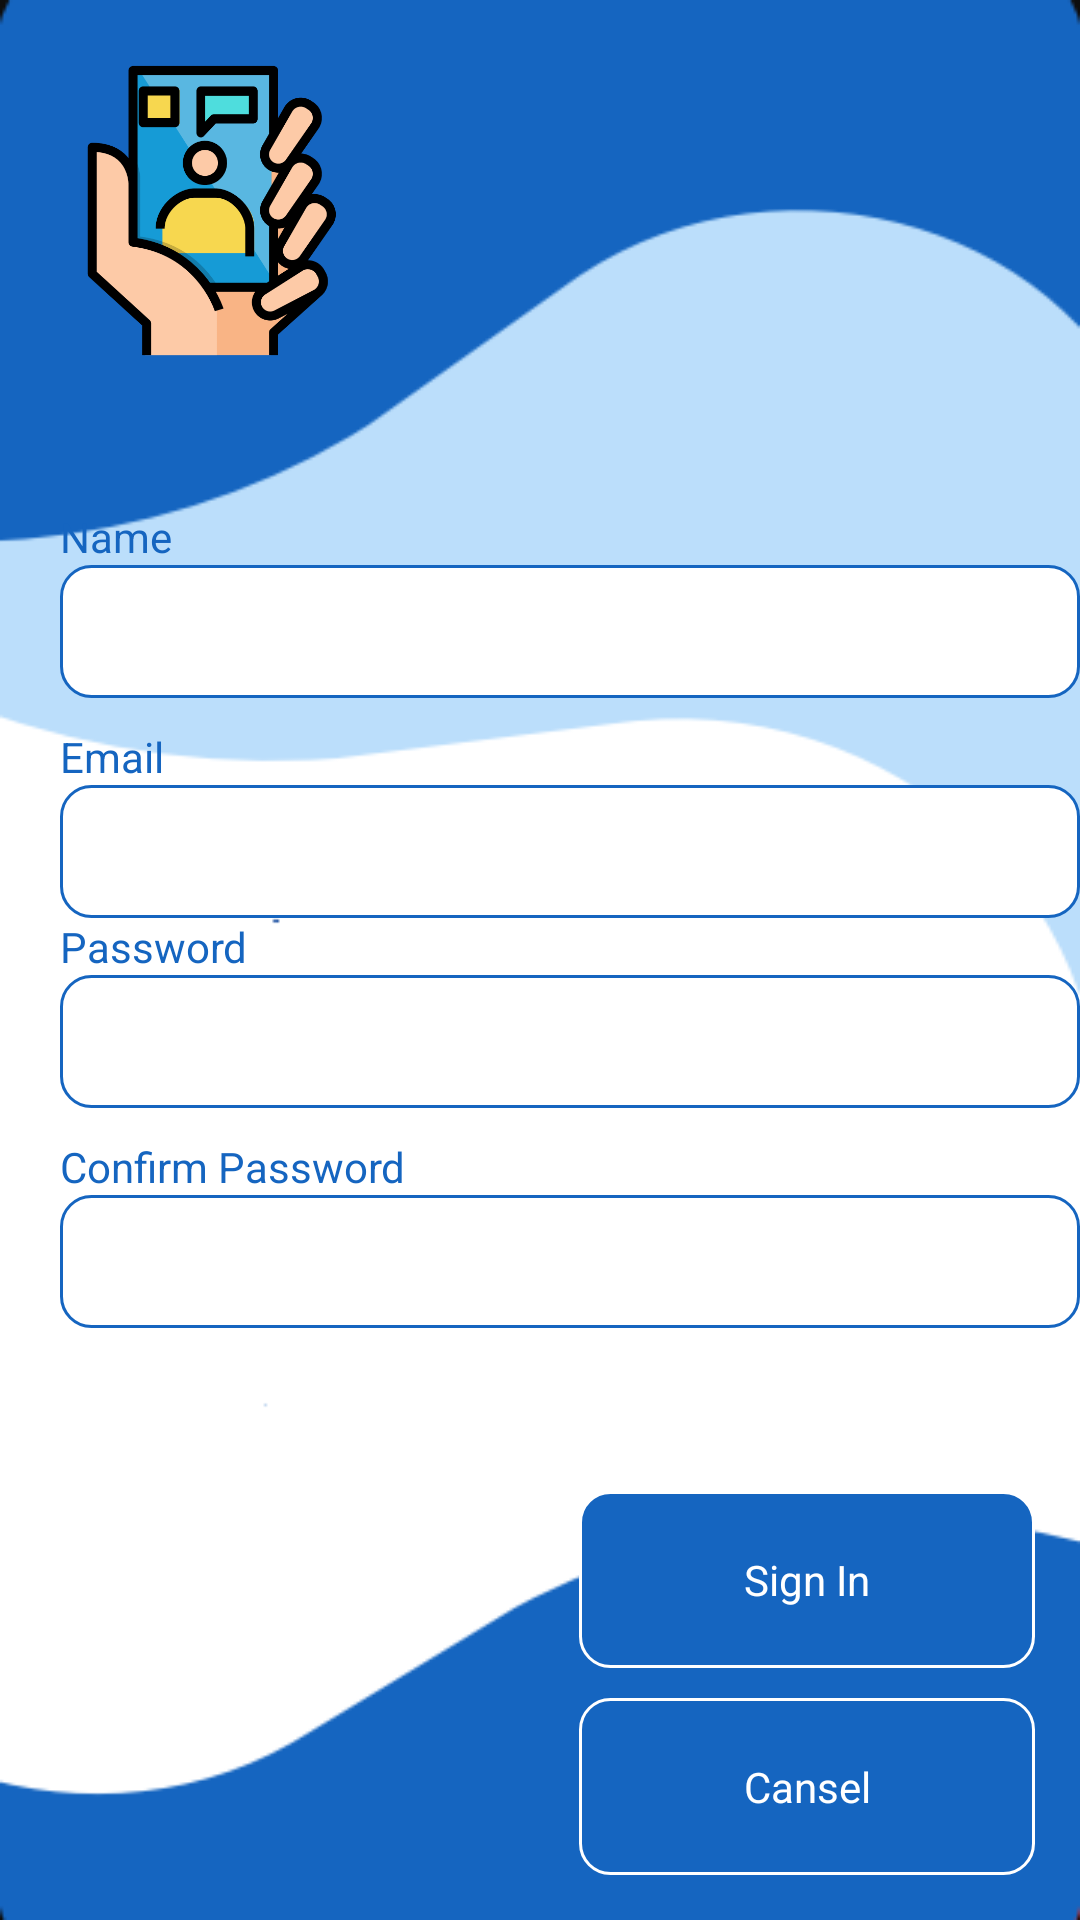

Icon click points for this 1080 x 1920 phone screenshot, format [x,y]:
telefon: [211,211]
